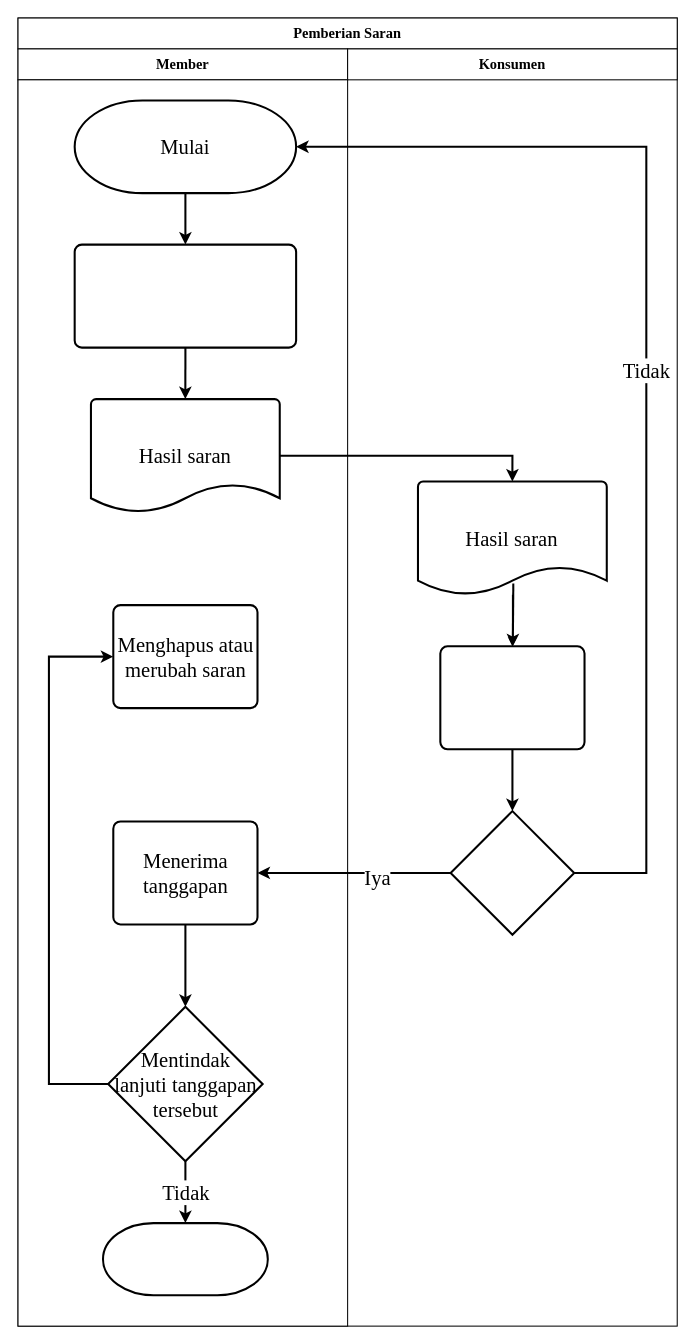
Some shapes in this 695 by 1344 pixel diagram are drawn without their labels. Each missing label, with the centre of its shape:
"Berikan tanggapan" goes at point 512,872.
"Lihat saran" goes at point 512,697.
"Memberikan saran terhadap suatu konten" goes at point 185,295.
"Selesai" goes at point 184,1259.
